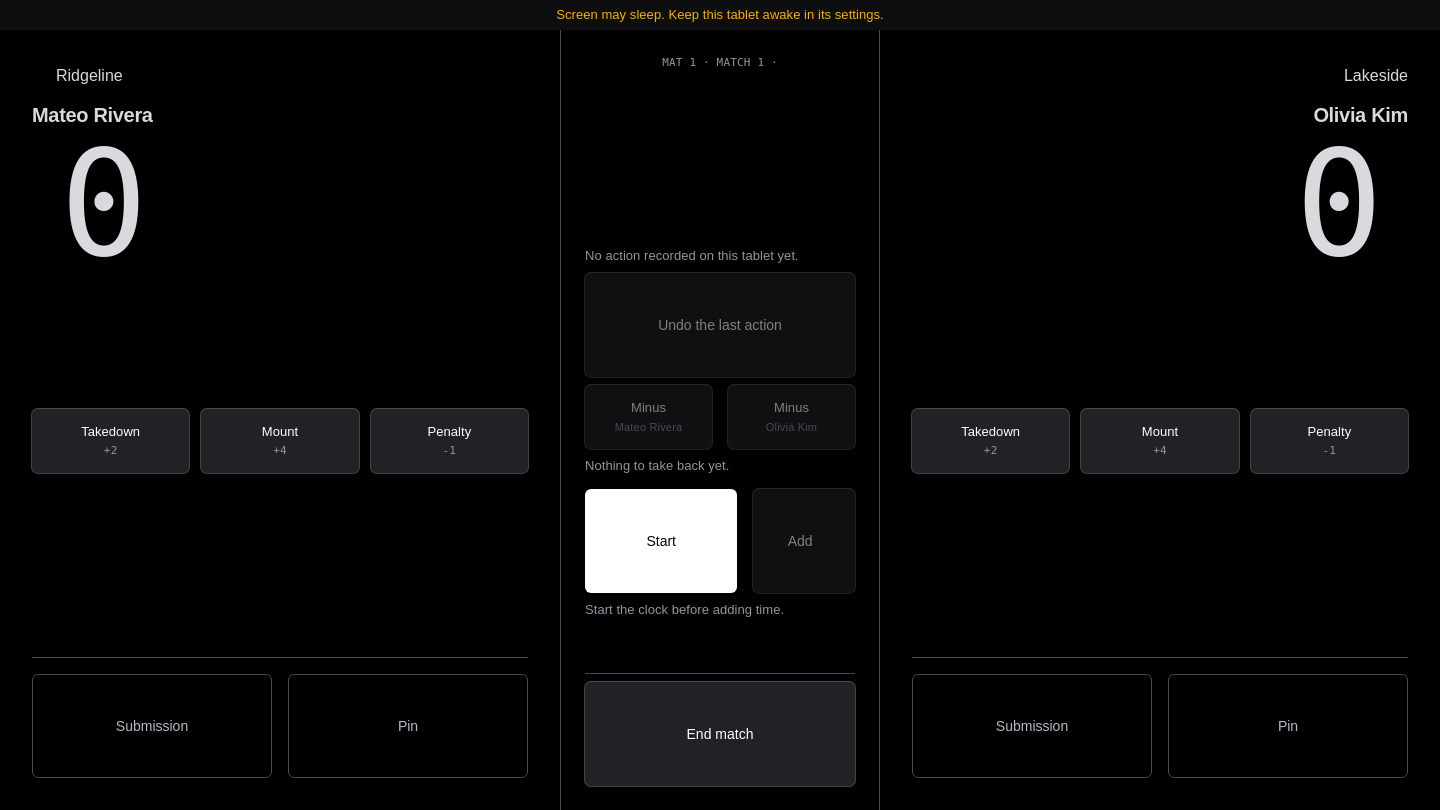
Test: ScorerPage › keeps the confirm sheet open when the undo behind Back to match fails
The image size is (1440, 810).
Step 1. Click the button named "Pin for Olivia Kim" → (1288, 726), box x1=1168 y1=674 x2=1408 y2=778
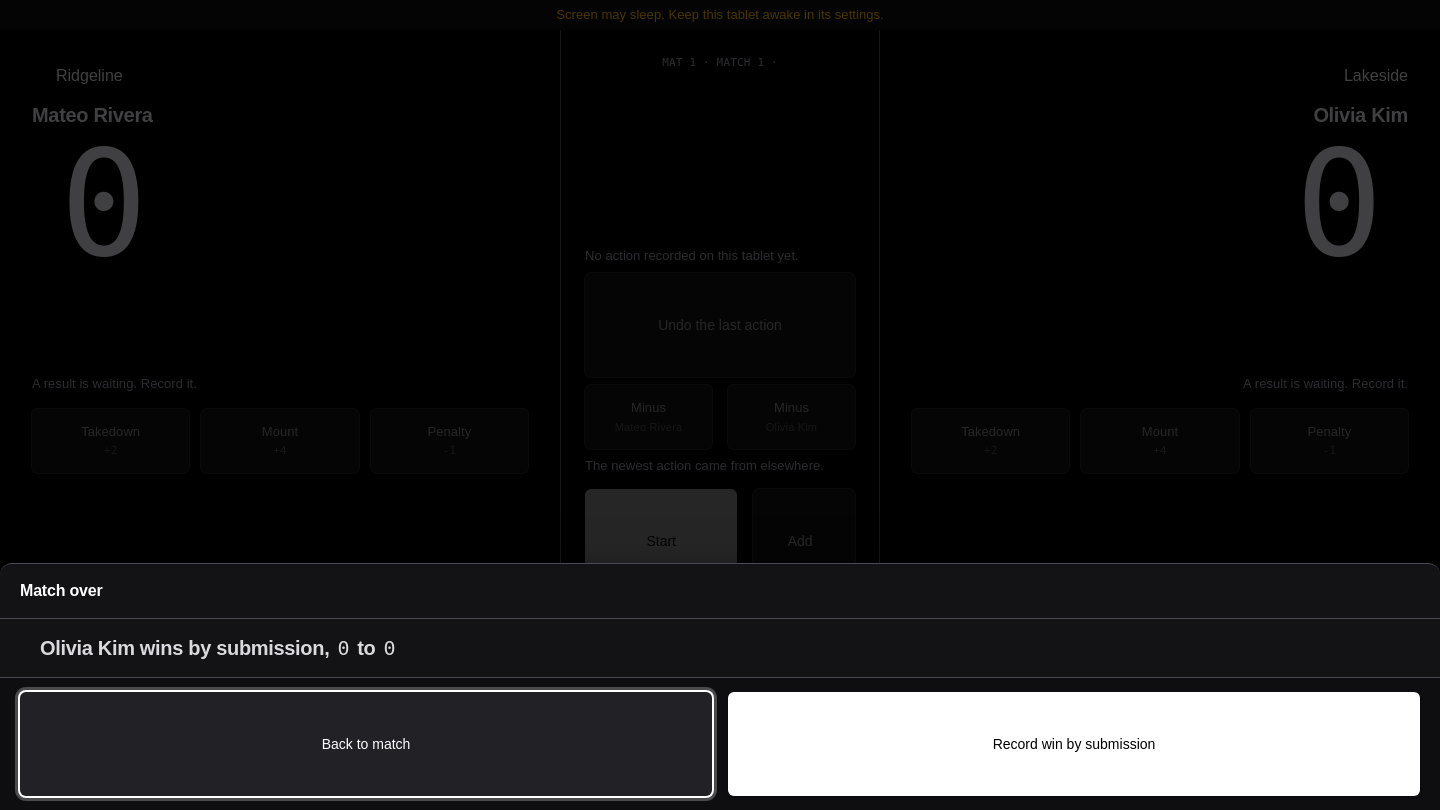
The terminal is still pending on the server, so a failed undo has to leave the sheet up.
Step 2. Click the button "Back to match" → (366, 744), box x1=20 y1=692 x2=712 y2=796
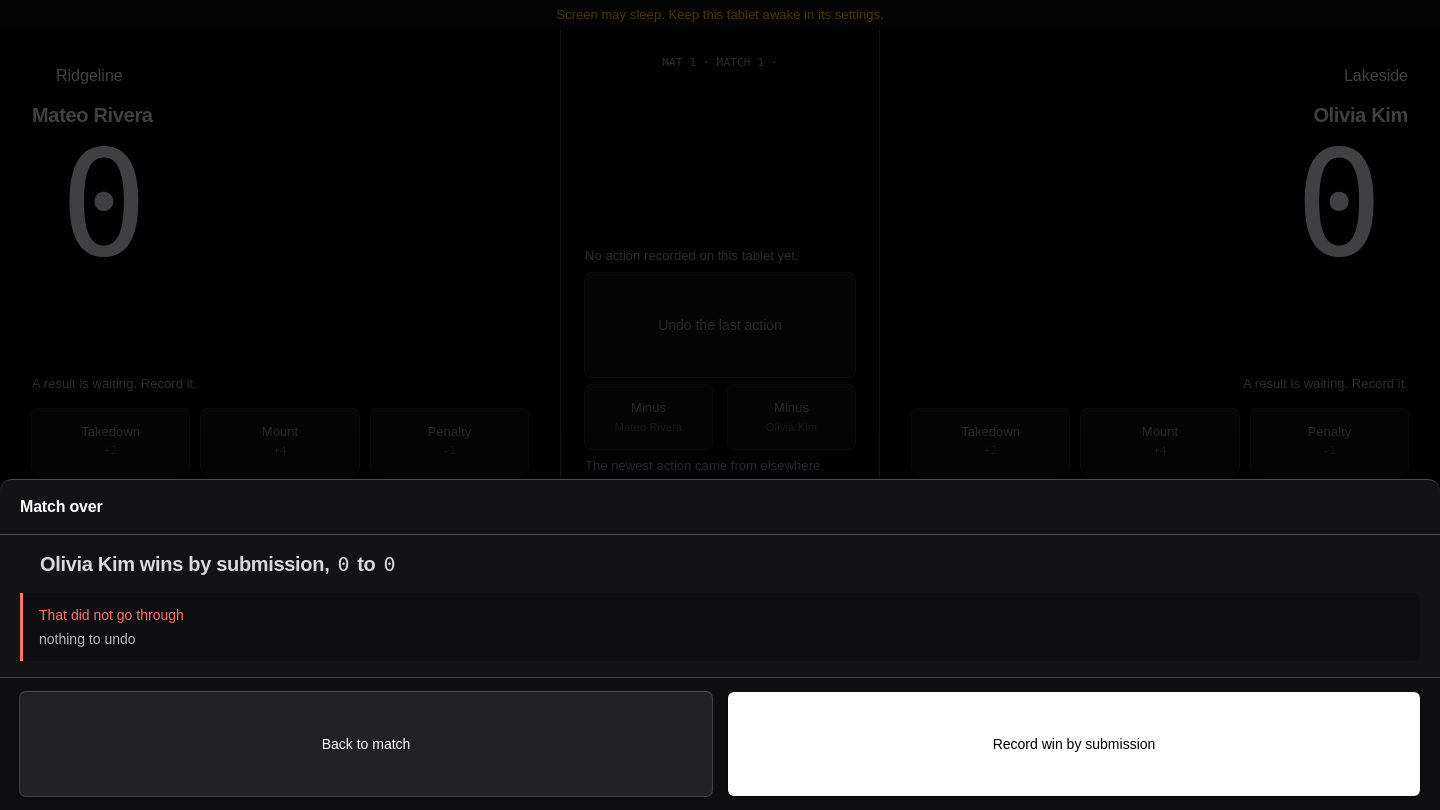
expect the dialog is shown: met, box x1=0 y1=479 x2=1439 y2=809
expect the message shows "nothing to undo": met, box x1=39 y1=631 x2=136 y2=647
Step 3. Click the button "Back to match" → (366, 744), box x1=20 y1=692 x2=712 y2=796
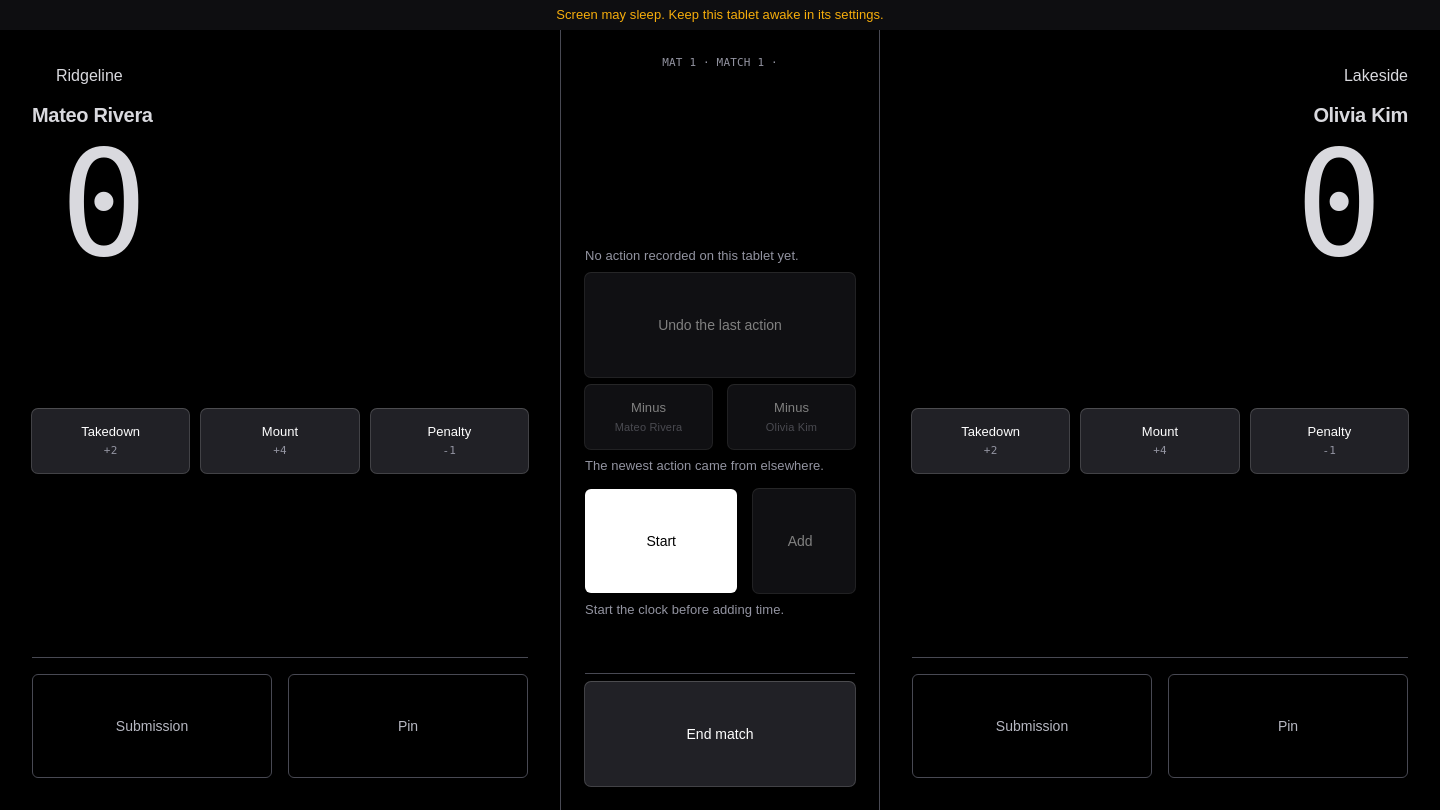
expect the dialog is gone: met
